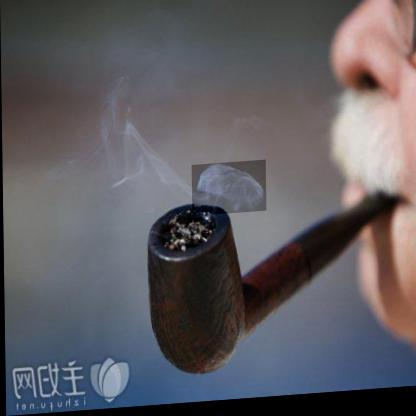smoke: (191, 164, 266, 219)
